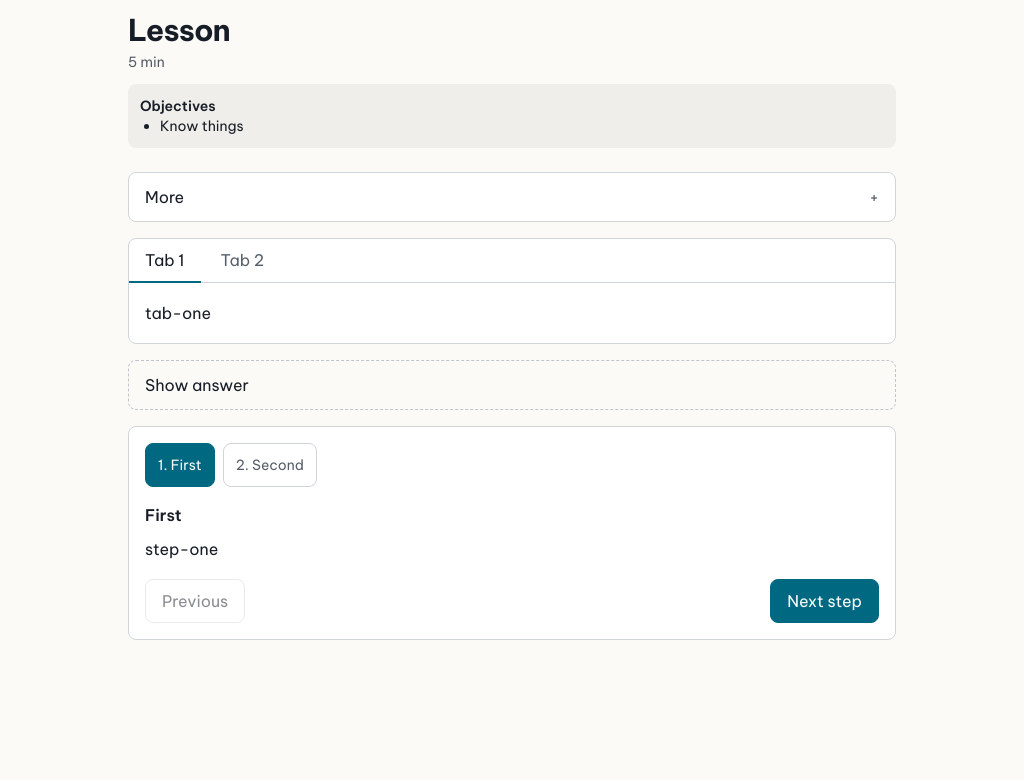
Test: containers › accordion toggles, tabs switch, reveal opens, stepper advances and completes
Expected: the text "hidden-a" is not shown
Click the button "More +".
click(165, 197)  # box x1=129 y1=173 x2=895 y2=221
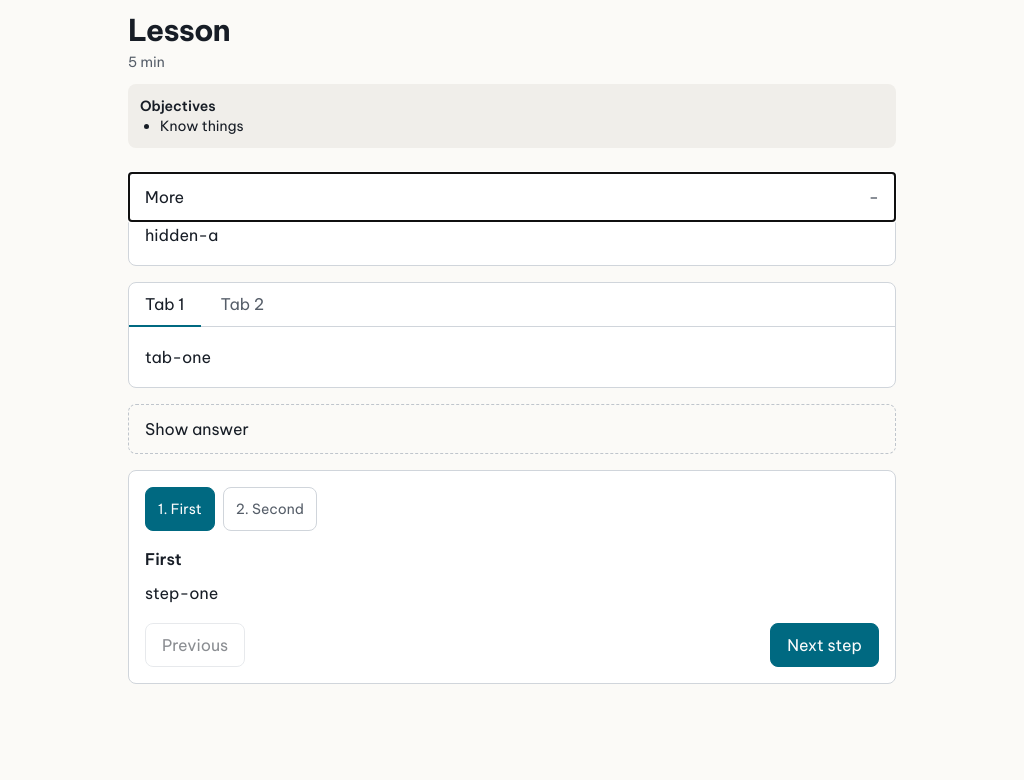
Expected: the text "tab-one" is shown, x1=145 y1=347 x2=211 y2=367
Now the text "hidden-a" is shown, box x1=145 y1=225 x2=218 y2=245
Click the tab "Tab 2".
click(242, 305)  # box x1=204 y1=283 x2=280 y2=327
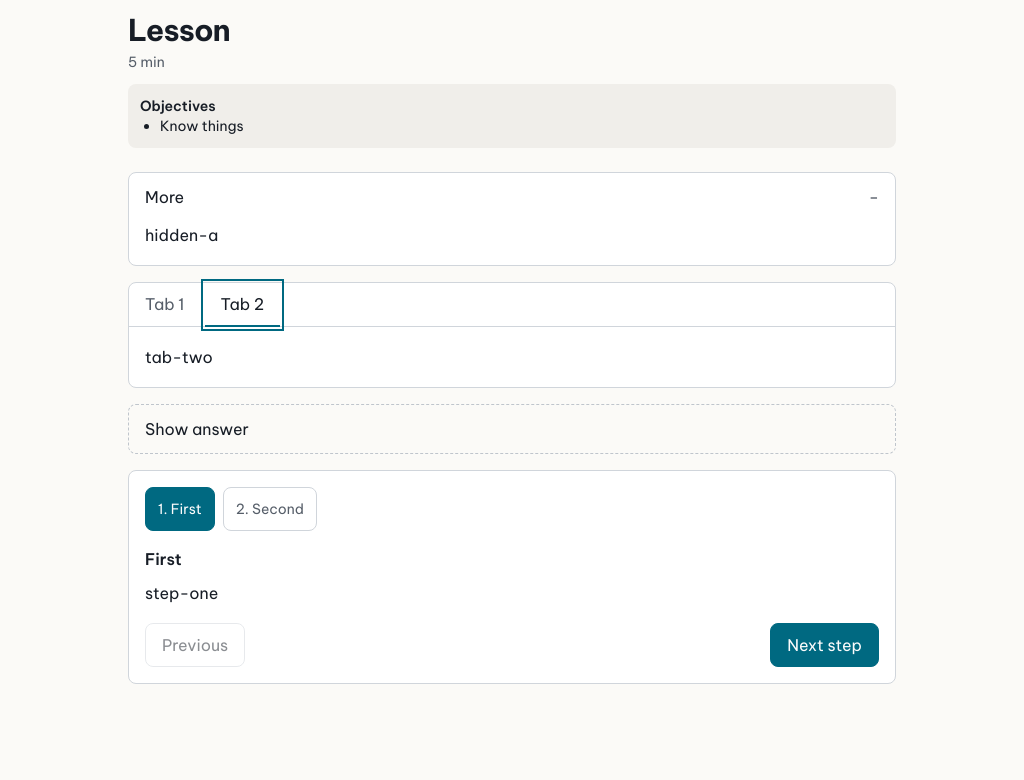
Expected: the text "the-answer" is not shown
Now the text "tab-two" is shown, box x1=145 y1=347 x2=213 y2=367
Click the button "Show answer".
click(197, 429)  # box x1=128 y1=404 x2=896 y2=454
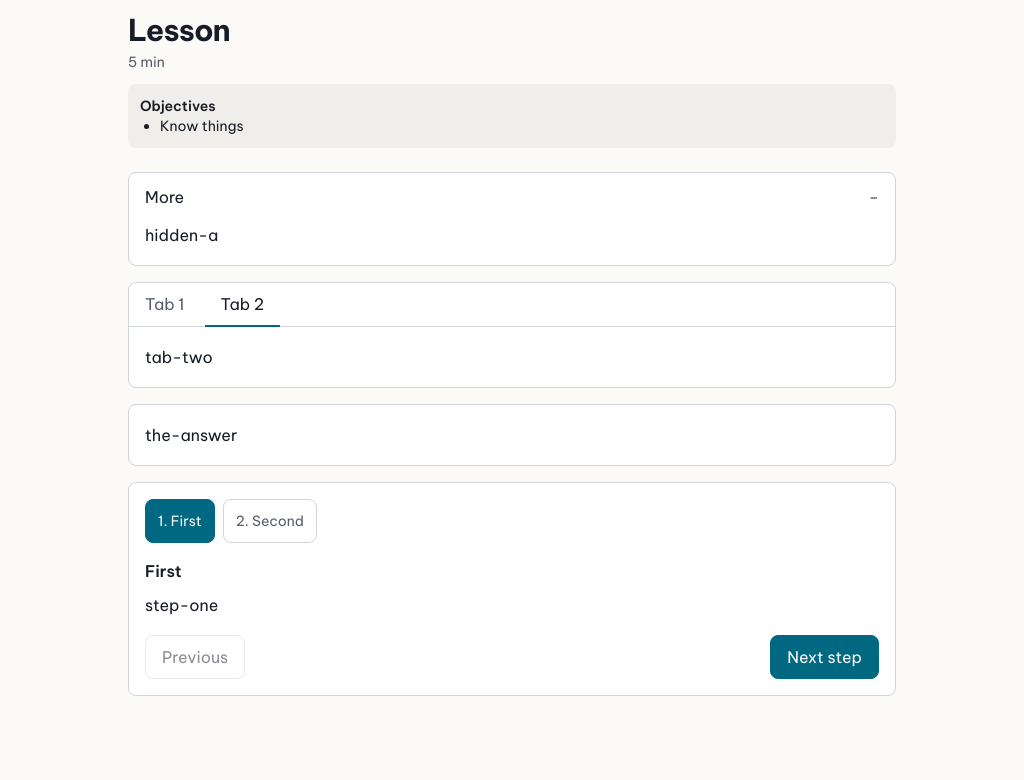
Expected: the text "step-one" is shown, x1=145 y1=595 x2=218 y2=615
Now the text "the-answer" is shown, box x1=145 y1=425 x2=237 y2=445
Click the button "Next step".
click(825, 657)  # box x1=770 y1=635 x2=879 y2=679
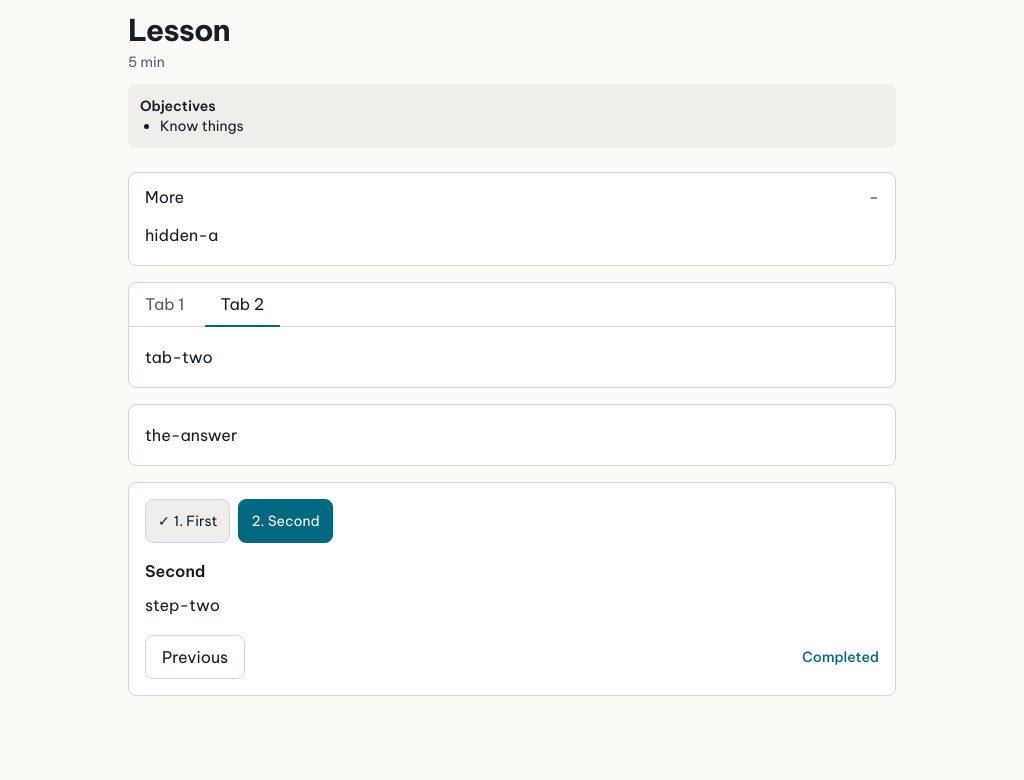
Now the text "step-two" is shown, box x1=145 y1=595 x2=220 y2=615
